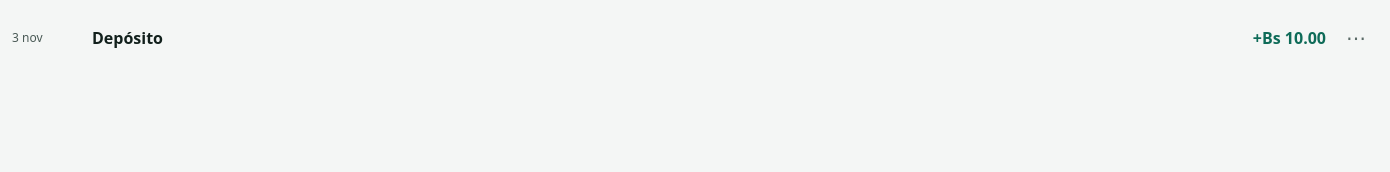
Test: «Cambiar fecha y hora» solo en movimientos activos que no son ajustes › no aparece si la API dice que no puedes registrar
Click the button named "Acciones de " at (1356, 38), box [1334,16,1378,60]
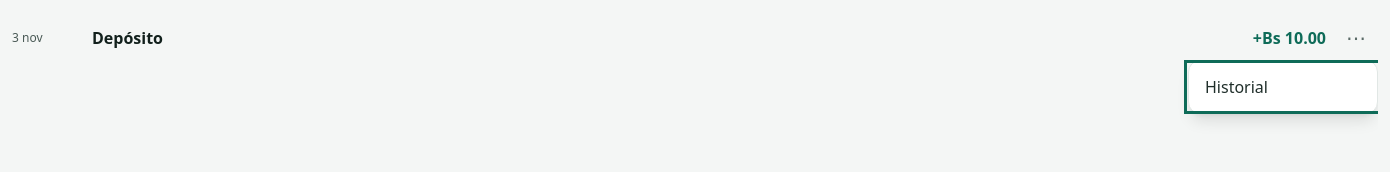
Result: the menu item "Historial" is shown at [1189,65,1377,109]
